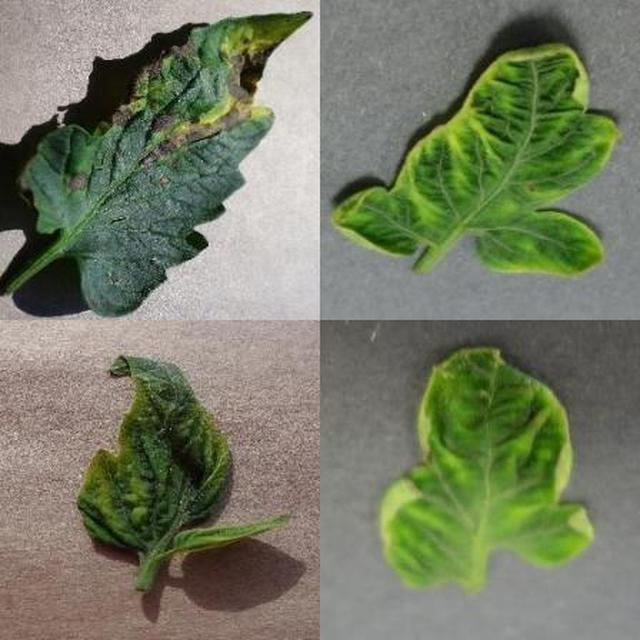Early Blight Leaf: (218, 223, 640, 640)
